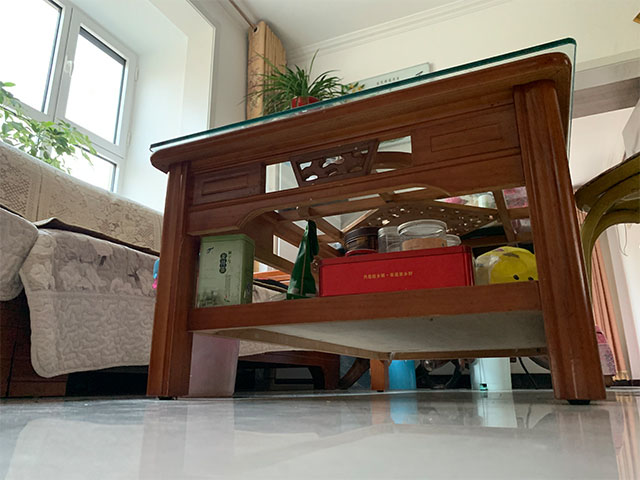curtain: (576, 189, 630, 380)
sofa: (1, 141, 164, 400)
table: (146, 36, 606, 405)
trash can: (190, 332, 241, 399)
